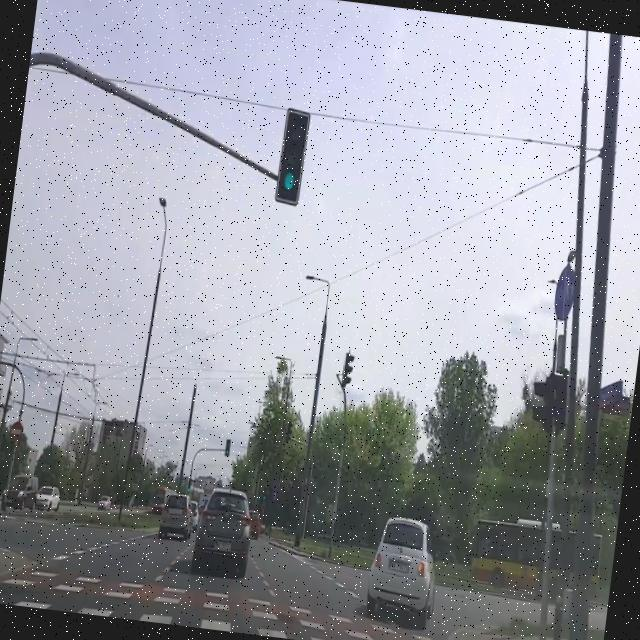Zakaz wjazdu: (8, 420, 22, 444)
